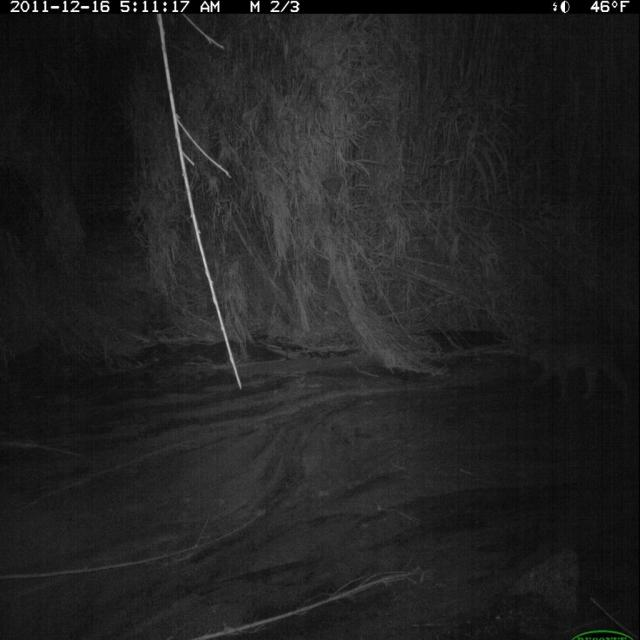bobcat: (524, 332, 639, 408)
